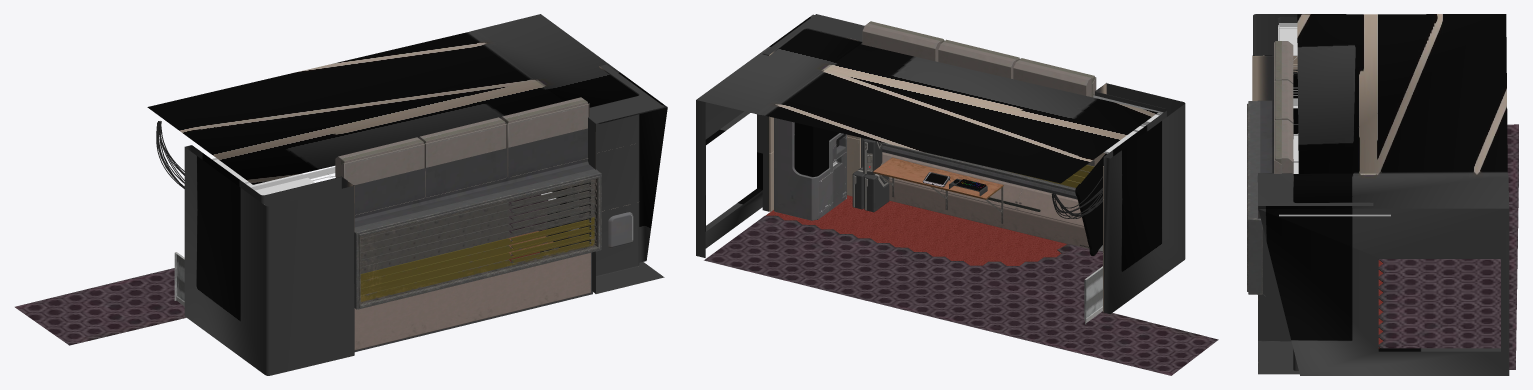
The model's file is EvokeLabsMap.glb.
The picture shows the model from 3 angles, left to right: view 1: azimuth 30°, elevation 25°; view 2: azimuth 150°, elevation 25°; view 3: azimuth 270°, elevation 25°; orthographic projection. The views are drawn at different scales.
Visible parts, largest first — view 1: Wall_Curved_VendingMachine.001, Wall_CurvedTV_Outside, Window_Glass_Main, Window_Shutters_Closed, Wall_Window_ComputerMain, WindowBottomStorage_Main, Wall_Curved_VendingMachine_Outdoor, Floor, Window_Frame_Beanbag_Main, Window_TopStorage_Main_2, Window_TopStorage_Main_3, Window_TopStorage_Main_2.001 (+3 smaller); view 2: Wall_Curved_VendingMachine.001, Floor, Wall_CurvedTV_Outside, Floor_Carpet, WindowBottomStorage_Main, VendingMachine, Wall_Curved_VendingMachine_Outdoor, Window_TopStorage_Main_2.001, Window_TopStorage_Main_3, Window_TopStorage_Main_2, DeskMain, VendingMachone_Emit_Backdrop (+8 smaller); view 3: Wall_Curved_VendingMachine.001, Floor, Wall_Curved_VendingMachine_Outdoor, Window_Frame_Beanbag_Main, Wall_CurvedTV_Outside, Window_TopStorage_Main_2.001, Wall_Window_ComputerMain, Window_TopStorage_Main_2, Window_TopStorage_Main_3, Ceiling_Plate_04, Ceiling_Plate_06, TelevisionMain_Frame.
Part boxes in pixels (x1=…): Wall_Curved_VendingMachine.001: x1=147, y1=14, x2=667, y2=262; Wall_CurvedTV_Outside: x1=184, y1=145, x2=354, y2=375; Window_Glass_Main: x1=361, y1=179, x2=596, y2=303; Window_Shutters_Closed: x1=360, y1=179, x2=596, y2=301; Wall_Window_ComputerMain: x1=354, y1=128, x2=596, y2=351; WindowBottomStorage_Main: x1=354, y1=253, x2=590, y2=350; Wall_Curved_VendingMachine_Outdoor: x1=579, y1=64, x2=664, y2=293; Floor: x1=15, y1=194, x2=548, y2=345; Window_Frame_Beanbag_Main: x1=354, y1=169, x2=601, y2=309; Window_TopStorage_Main_2: x1=418, y1=117, x2=507, y2=197; Window_TopStorage_Main_3: x1=335, y1=137, x2=425, y2=215; Window_TopStorage_Main_2.001: x1=500, y1=97, x2=589, y2=176; Wall_Curved_VendingMachine.001: x1=696, y1=14, x2=1157, y2=257; Floor: x1=704, y1=215, x2=1218, y2=375; Wall_CurvedTV_Outside: x1=1095, y1=83, x2=1185, y2=314; Floor_Carpet: x1=766, y1=195, x2=1066, y2=265; WindowBottomStorage_Main: x1=880, y1=152, x2=1089, y2=248; VendingMachine: x1=774, y1=118, x2=846, y2=220; Wall_Curved_VendingMachine_Outdoor: x1=762, y1=14, x2=864, y2=211; Window_TopStorage_Main_2.001: x1=862, y1=21, x2=944, y2=61; Window_TopStorage_Main_3: x1=1013, y1=58, x2=1096, y2=97; Window_TopStorage_Main_2: x1=938, y1=39, x2=1020, y2=78; DeskMain: x1=873, y1=157, x2=1003, y2=199; VendingMachone_Emit_Backdrop: x1=794, y1=122, x2=839, y2=176; Wall_Curved_VendingMachine.001: x1=1257, y1=14, x2=1509, y2=375; Floor: x1=1378, y1=124, x2=1518, y2=369; Wall_Curved_VendingMachine_Outdoor: x1=1258, y1=173, x2=1373, y2=374; Window_Frame_Beanbag_Main: x1=1247, y1=101, x2=1262, y2=294; Wall_CurvedTV_Outside: x1=1252, y1=14, x2=1345, y2=100; Window_TopStorage_Main_2.001: x1=1274, y1=120, x2=1293, y2=173; Wall_Window_ComputerMain: x1=1257, y1=99, x2=1273, y2=296; Window_TopStorage_Main_2: x1=1274, y1=80, x2=1293, y2=138; Window_TopStorage_Main_3: x1=1274, y1=41, x2=1293, y2=83; Ceiling_Plate_04: x1=1279, y1=134, x2=1390, y2=216; Ceiling_Plate_06: x1=1278, y1=25, x2=1297, y2=55; TelevisionMain_Frame: x1=1293, y1=73, x2=1298, y2=133.
Bounding box in the file's own units: 9.4 × 3.29 × 4.3.
Materials: 41 (28 with a texture image).
